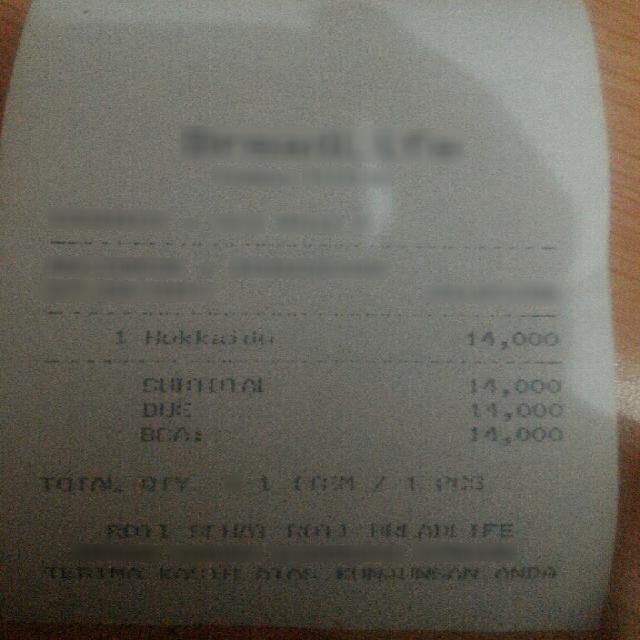kertas: (3, 0, 617, 631)
